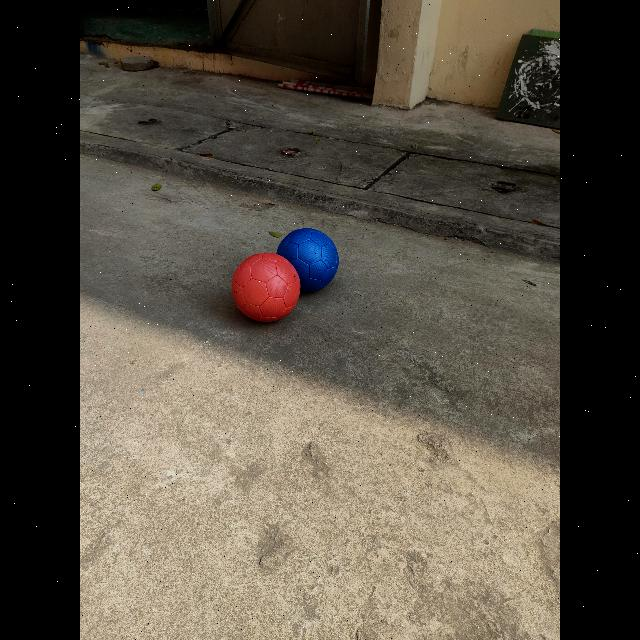B: (278, 228, 339, 292)
R: (232, 253, 300, 322)
